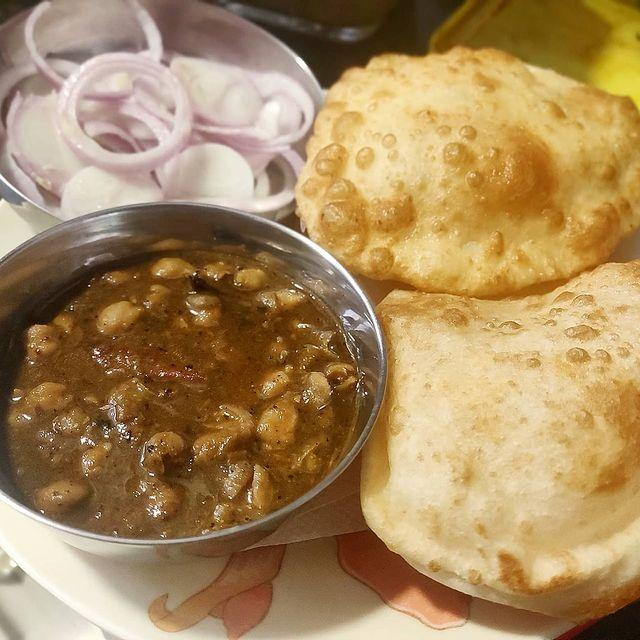Chole: (5, 253, 338, 524)
